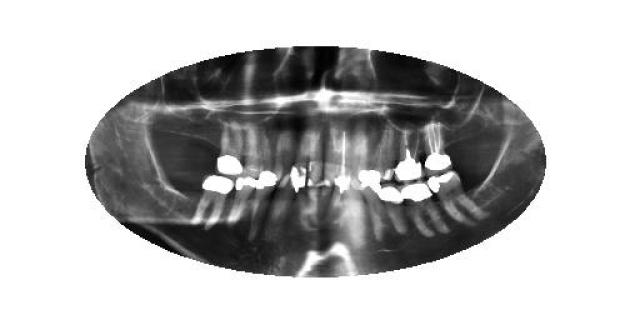Fillings: (427, 172, 488, 226), (401, 182, 451, 238), (190, 174, 235, 230), (248, 170, 278, 242), (216, 118, 245, 178), (360, 181, 385, 244), (228, 175, 258, 226), (380, 181, 408, 235), (290, 120, 310, 190), (358, 132, 383, 182)
Implant: (420, 116, 454, 176), (395, 121, 426, 179), (335, 125, 350, 193)
